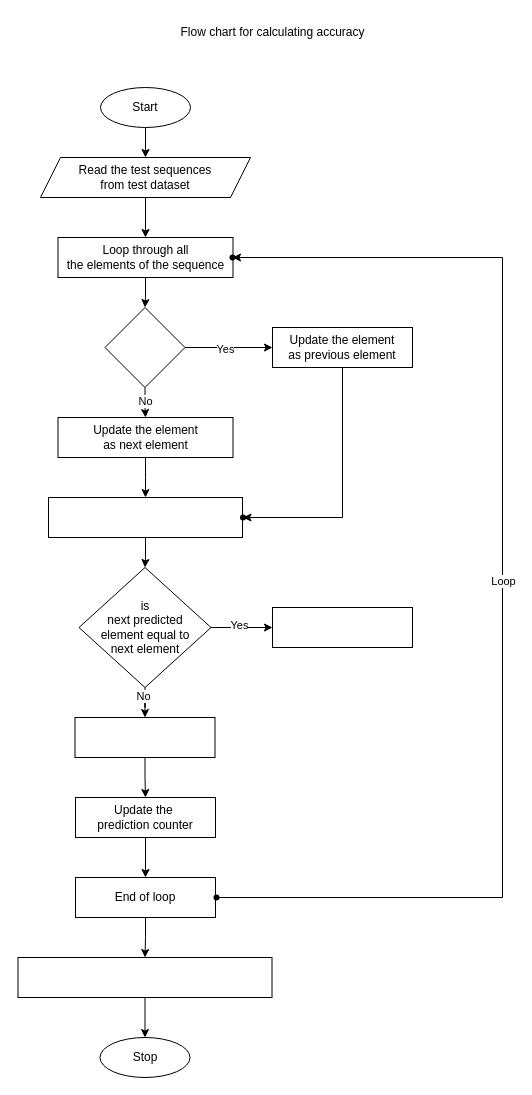
The diagram is 532 pixels wide and 1095 high, and some of its shapes have lost their labels. Each missing label, with the box of its shape:
Calculate the accuracy % = match counter/prediction counter * 100: (17, 956, 272, 998)
Do nothing: (74, 716, 215, 758)
is it first element: (104, 306, 185, 388)
Take the previous element and predict the next predicted element: (48, 496, 242, 538)
Update the match counter: (272, 606, 412, 648)
